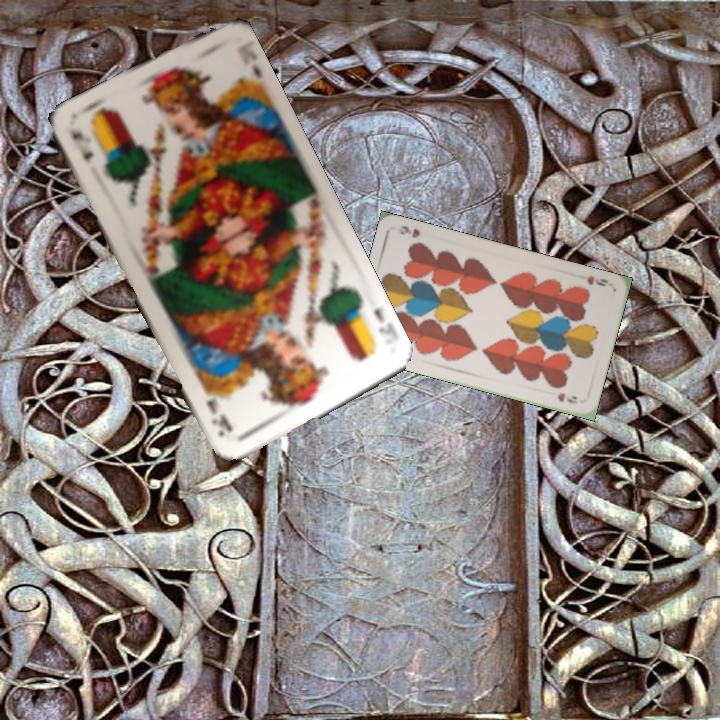EK: (67, 125, 96, 166), (370, 304, 400, 343)
H9: (582, 272, 611, 289)
